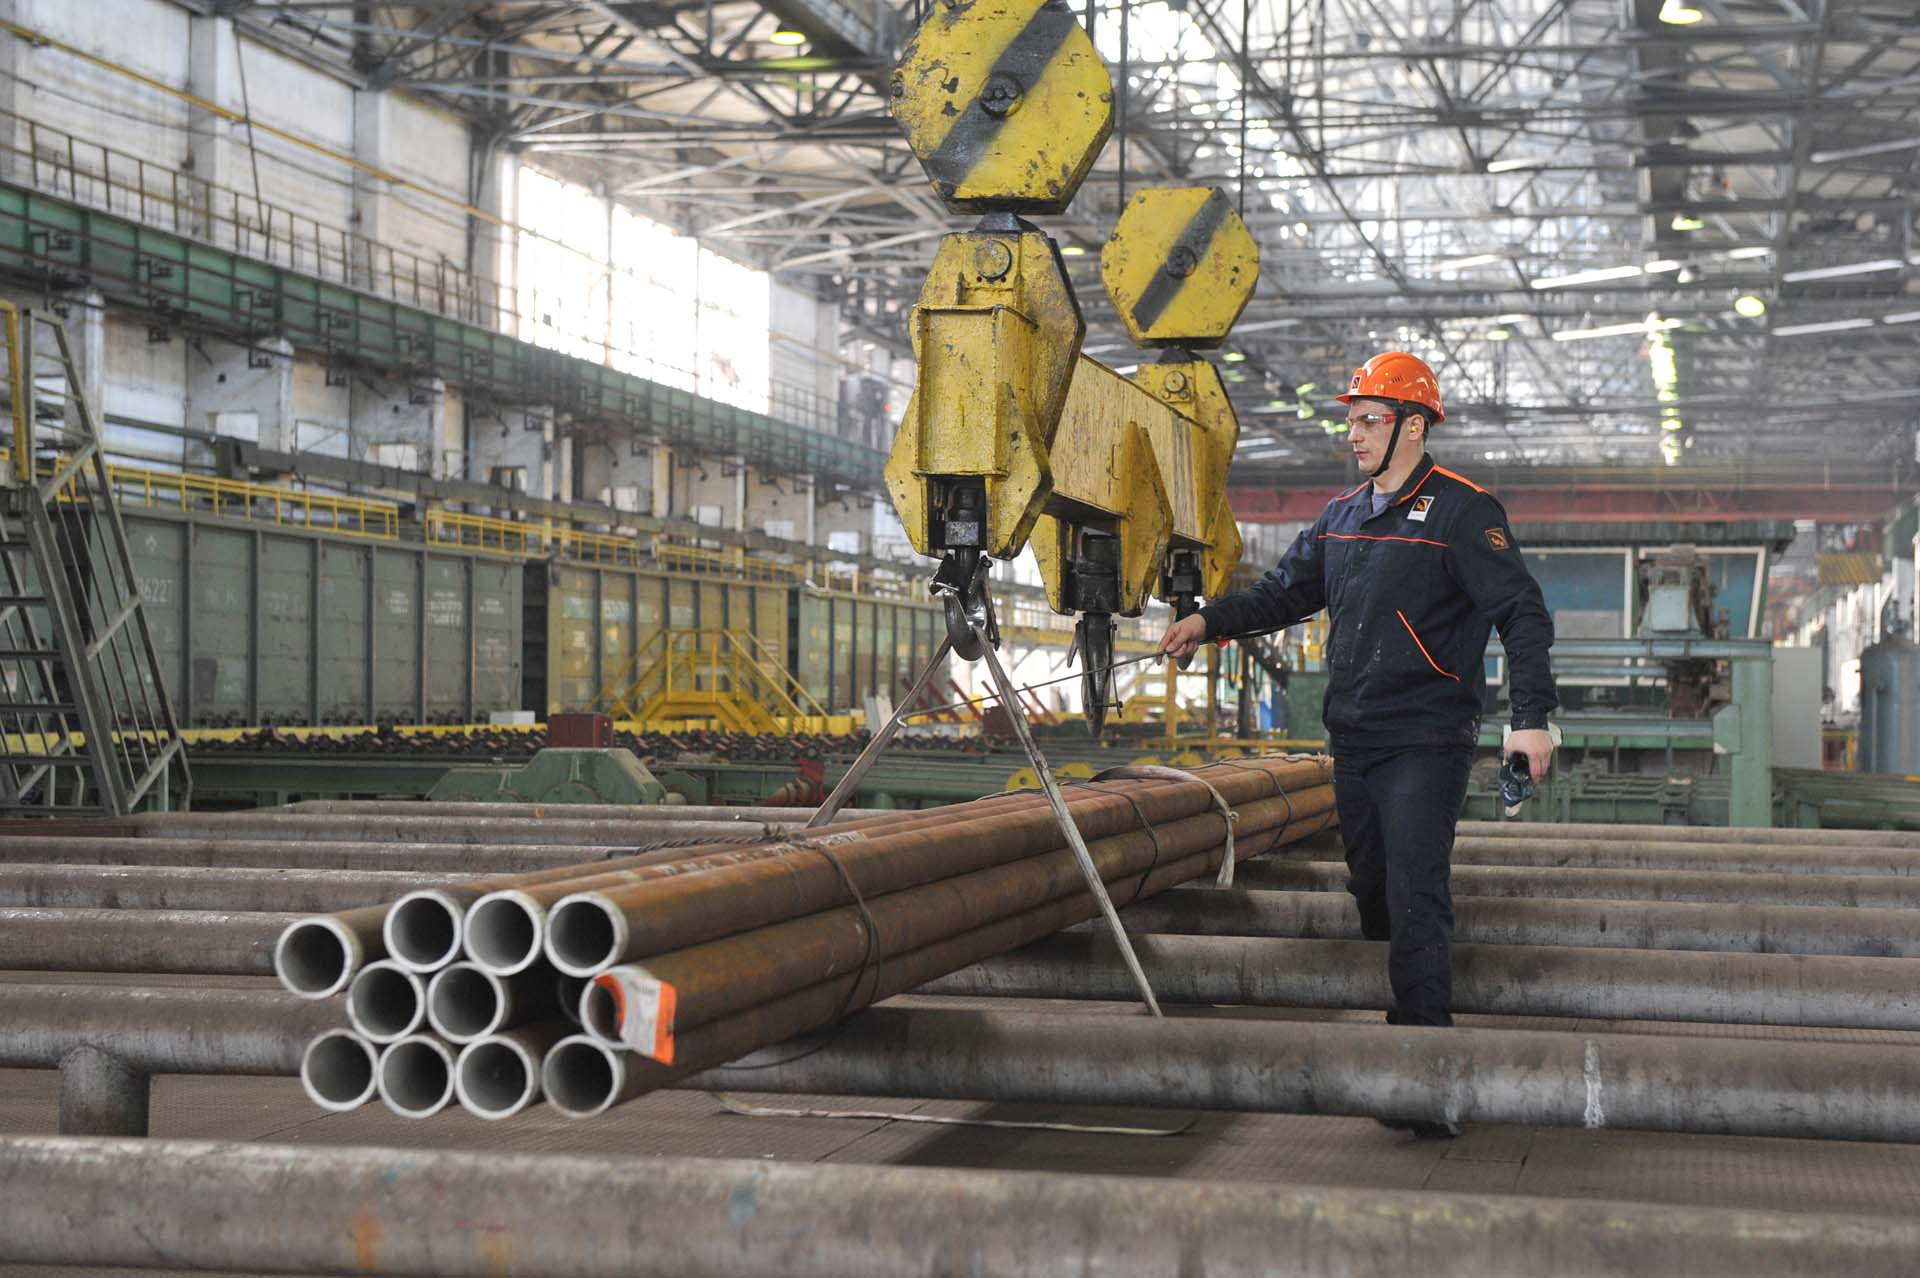person: (1152, 351, 1559, 1143)
